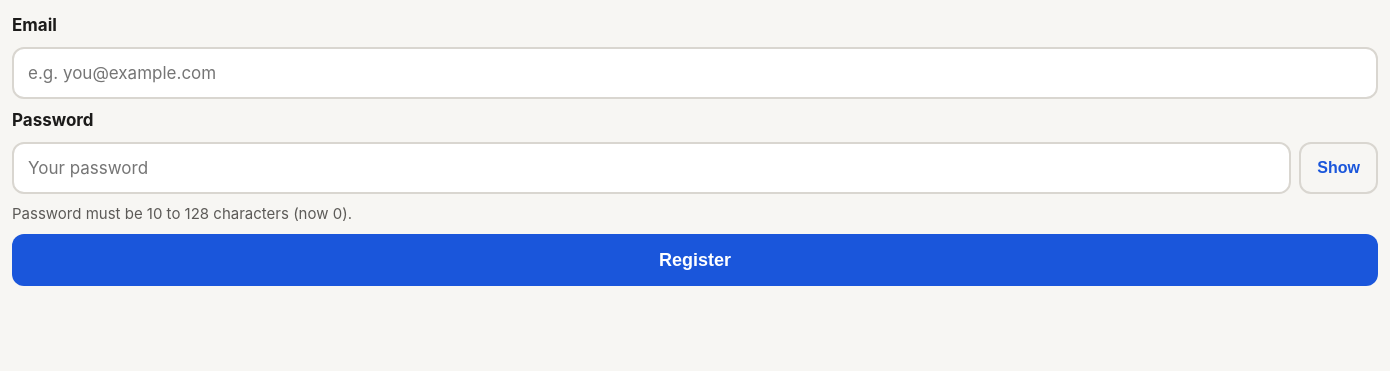
Test: AuthForm register › shows the backend message exactly and links to login
In the field labelled "Email": {"x": 695, "y": 73} [12,47,1378,99], type "new@example.com"
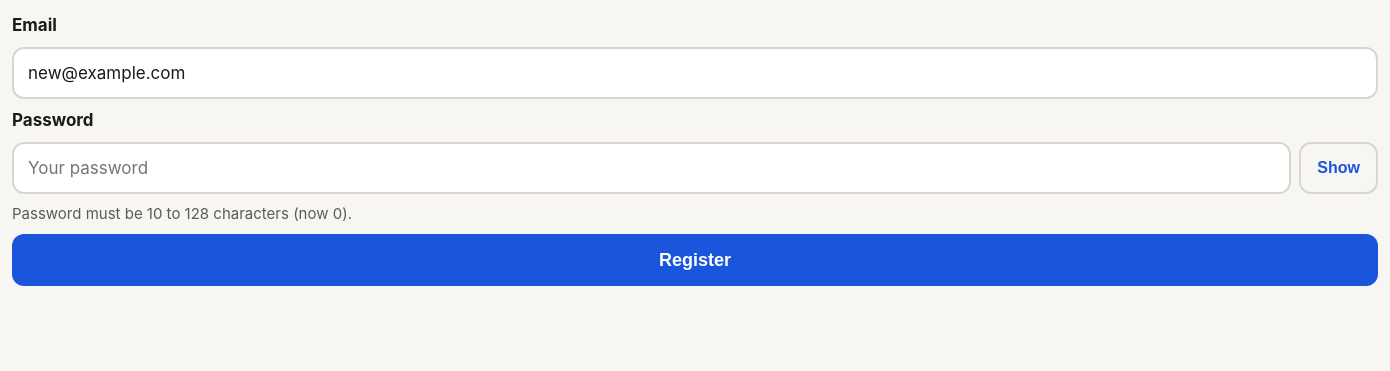
In the password field labelled "Password": {"x": 652, "y": 168} [12,142,1291,194], type "longpassword1"
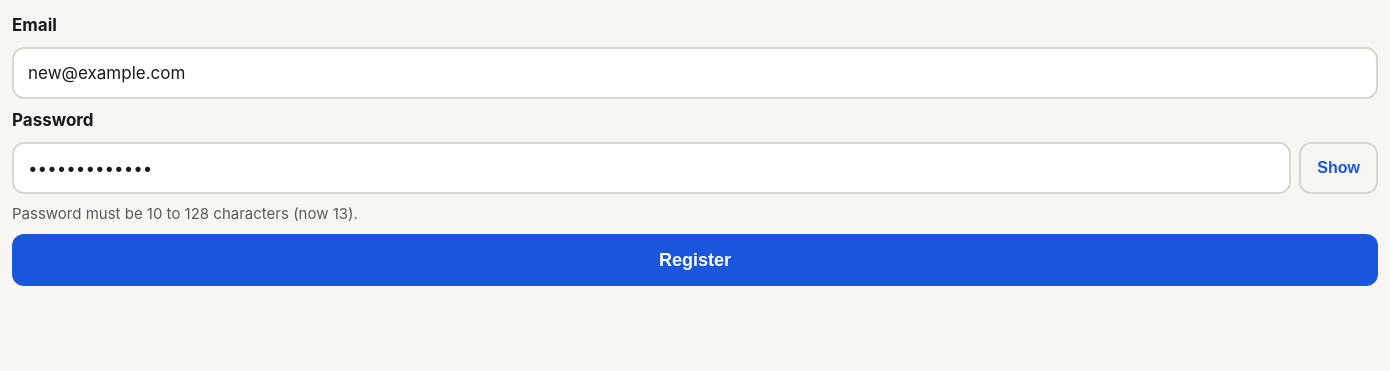
Click the button "Register": {"x": 695, "y": 260} [12,234,1378,286]
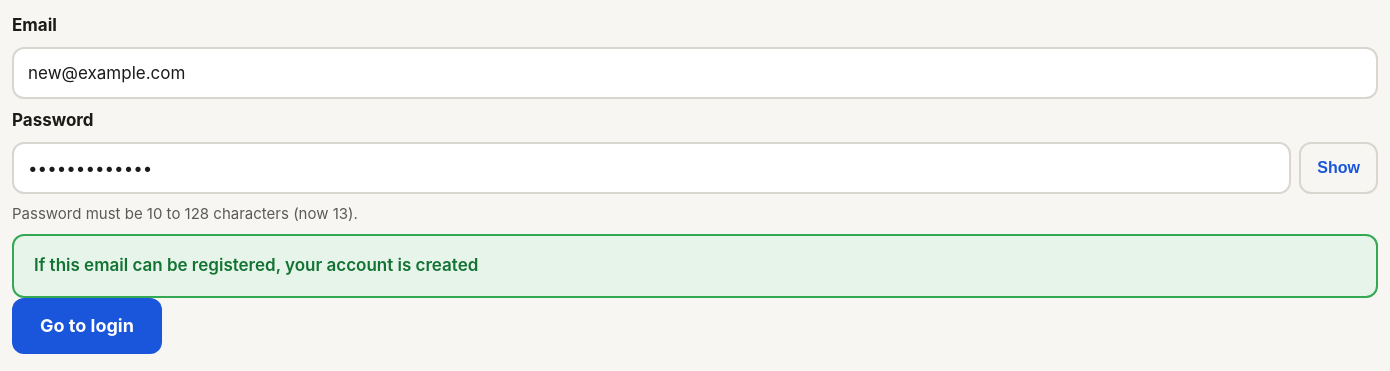
Check: the text "If this email can be registered, your account is created" is shown, box [12,234,1378,298]
